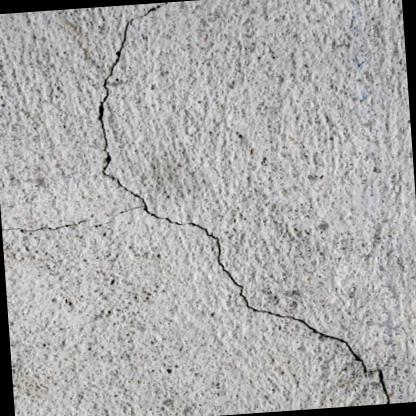crack: (97, 2, 389, 404)
